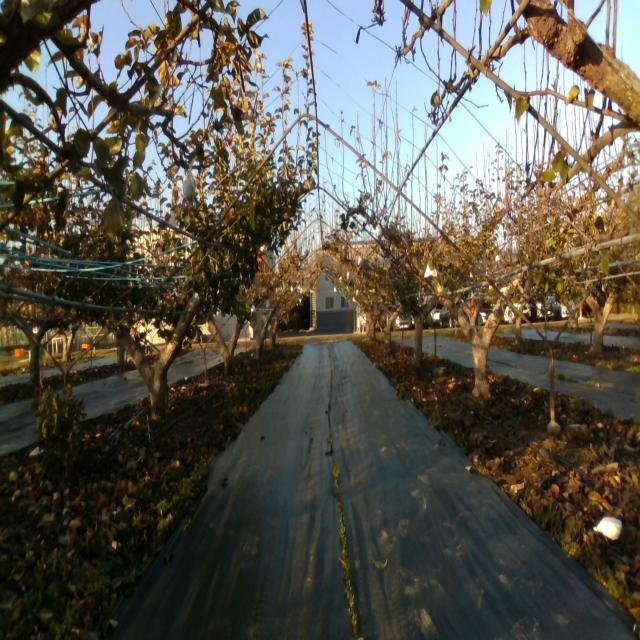pearbags: (182, 164, 196, 207)
